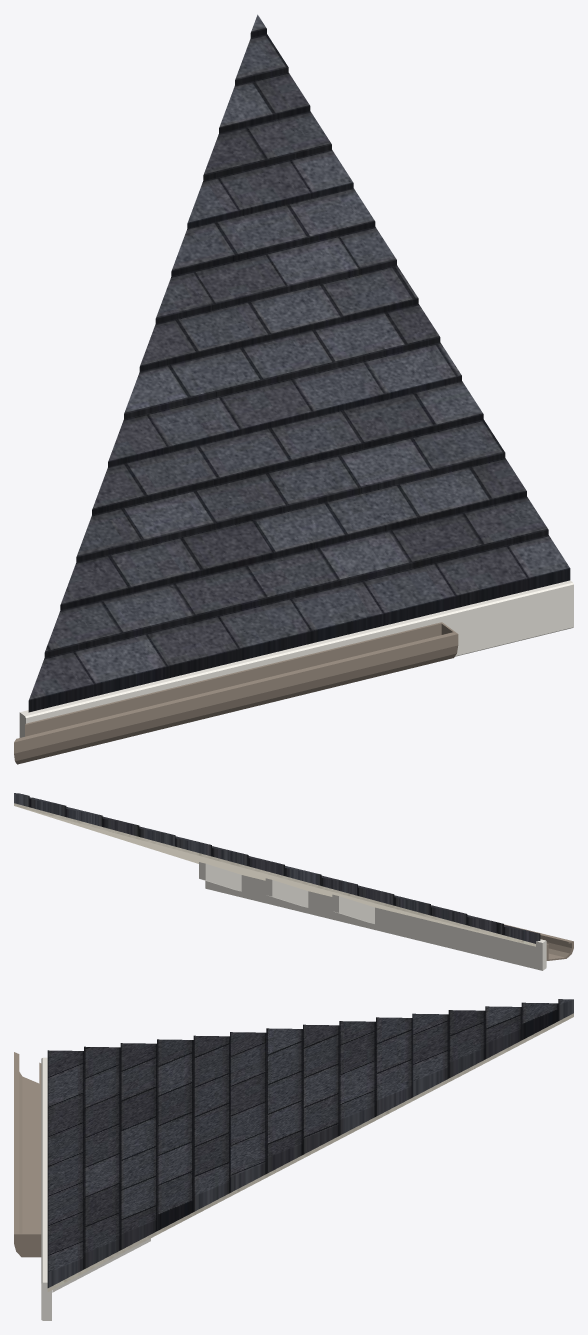
Rendered from roof_main_6_l_porch.glb.
3 views of the same model, one above another, from view 1: azimuth 30°, elevation 25°; view 2: azimuth 150°, elevation 25°; view 3: azimuth 270°, elevation 25° (orthographic). The views are drawn at different scales.
Visible parts, largest first — view 1: roof_main_6_l_porch_shingles, roof_main_6_l_porch_gutter, roof_main_6_l_porch_trim; view 2: roof_main_6_l_porch_trim, roof_main_6_l_porch_shingles, roof_main_6_l_porch_plaster, roof_main_6_l_porch_gutter; view 3: roof_main_6_l_porch_shingles, roof_main_6_l_porch_gutter, roof_main_6_l_porch_plaster, roof_main_6_l_porch_trim.
Part boxes in pixels (bbox=[...]): roof_main_6_l_porch_shingles: bbox=[28, 14, 570, 712]; roof_main_6_l_porch_gutter: bbox=[14, 622, 458, 764]; roof_main_6_l_porch_trim: bbox=[19, 580, 573, 737]; roof_main_6_l_porch_trim: bbox=[199, 862, 546, 970]; roof_main_6_l_porch_shingles: bbox=[14, 793, 540, 943]; roof_main_6_l_porch_plaster: bbox=[14, 803, 535, 946]; roof_main_6_l_porch_gutter: bbox=[504, 924, 573, 960]; roof_main_6_l_porch_shingles: bbox=[47, 999, 573, 1287]; roof_main_6_l_porch_gutter: bbox=[14, 1052, 41, 1257]; roof_main_6_l_porch_plaster: bbox=[47, 1013, 573, 1291]; roof_main_6_l_porch_trim: bbox=[41, 1057, 150, 1320].
Size of the model in its own units: 2.66 by 1.69 by 2.66.
4 materials, 2 textured.
